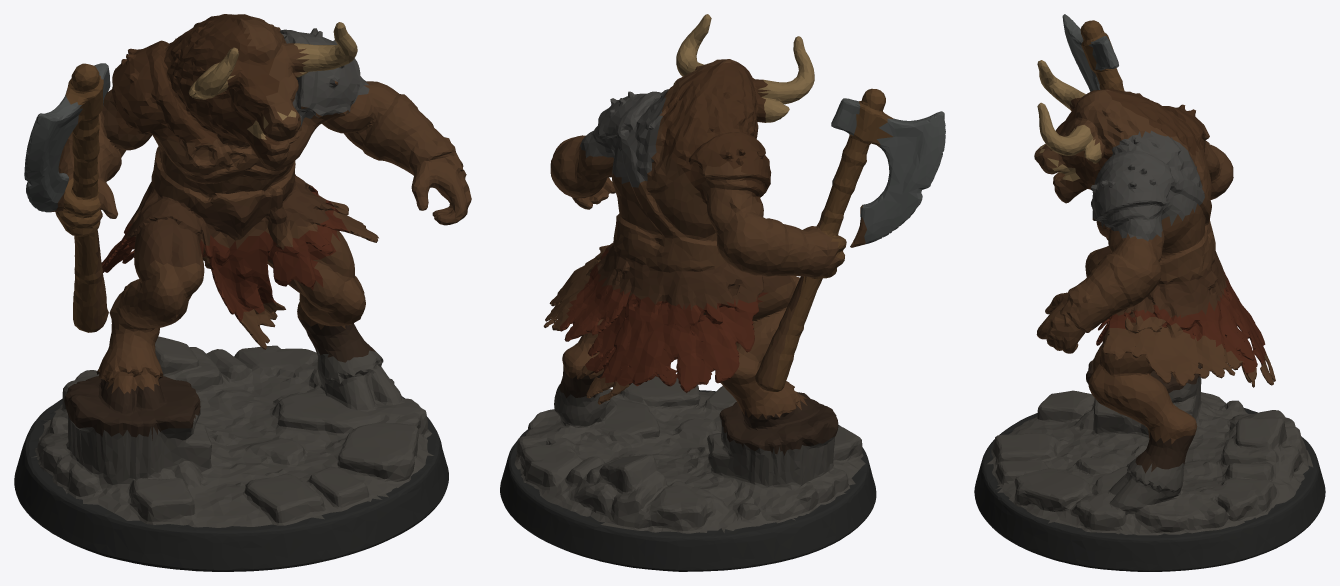
Rendered from minotauro.glb.
3 renders of one model, left to right at view 1: azimuth 30°, elevation 25°; view 2: azimuth 150°, elevation 25°; view 3: azimuth 270°, elevation 25°, orthographic. The views are drawn at different scales.
Visible parts, largest first — view 1: tmpgiuxxpeu.ply; view 2: tmpgiuxxpeu.ply; view 3: tmpgiuxxpeu.ply.
Part boxes in pixels (bbox=[...]): tmpgiuxxpeu.ply: bbox=[14, 14, 471, 571]; tmpgiuxxpeu.ply: bbox=[500, 14, 945, 571]; tmpgiuxxpeu.ply: bbox=[974, 14, 1325, 571].
Bounding box in the file's own units: 1.81 × 1.96 × 1.52.
